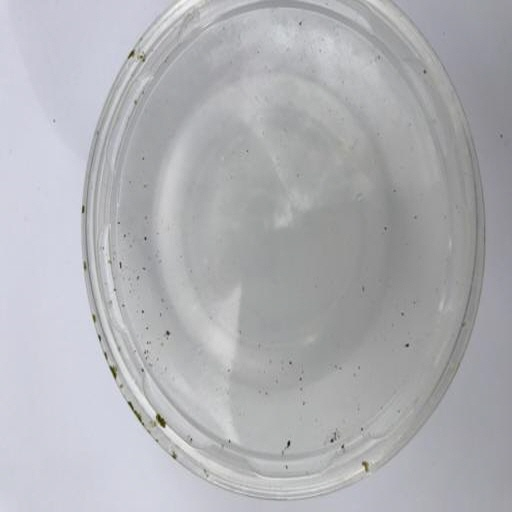Plastic_5: (79, 2, 485, 501)
